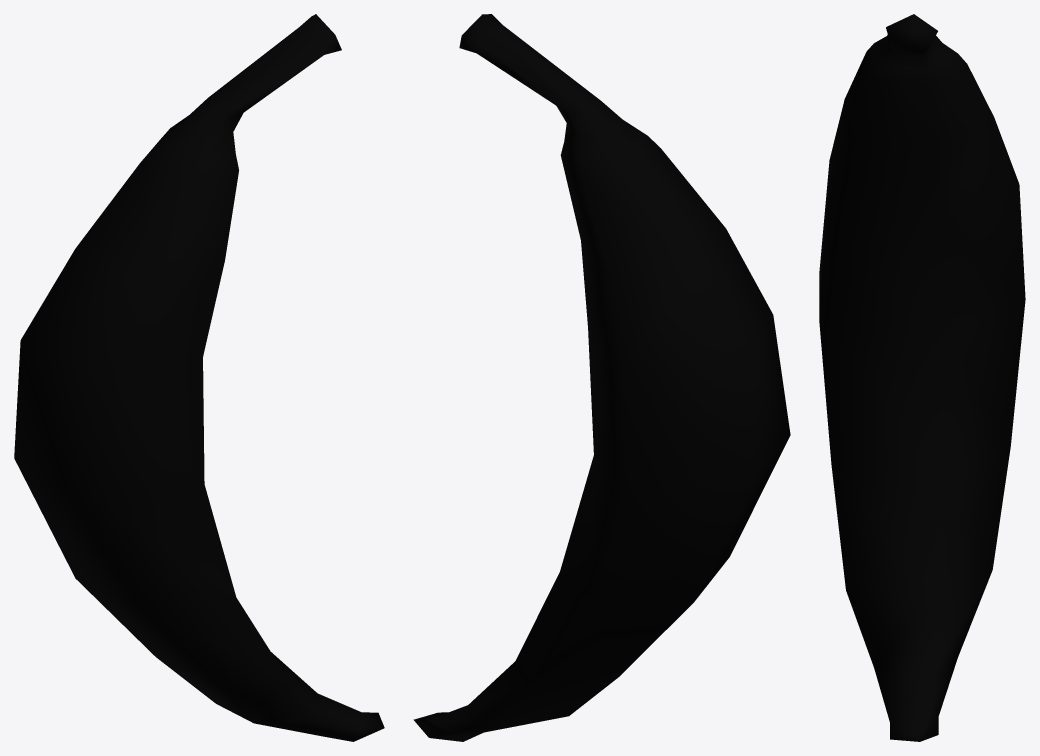
Rendered from banana_long.glb.
The picture shows the model from 3 angles, left to right: view 1: azimuth 30°, elevation 25°; view 2: azimuth 150°, elevation 25°; view 3: azimuth 270°, elevation 25°; orthographic projection. The views are drawn at different scales.
Parts seen in each view (by area): view 1: Circle; view 2: Circle; view 3: Circle.
Boxes of the visible parts, bbox=[...] form: Circle: bbox=[14, 14, 384, 741]; Circle: bbox=[413, 14, 790, 741]; Circle: bbox=[819, 14, 1025, 741].
Bounding box in the file's own units: 0.1412 × 0.2799 × 0.074.
Materials: 1 (1 with a texture image).
